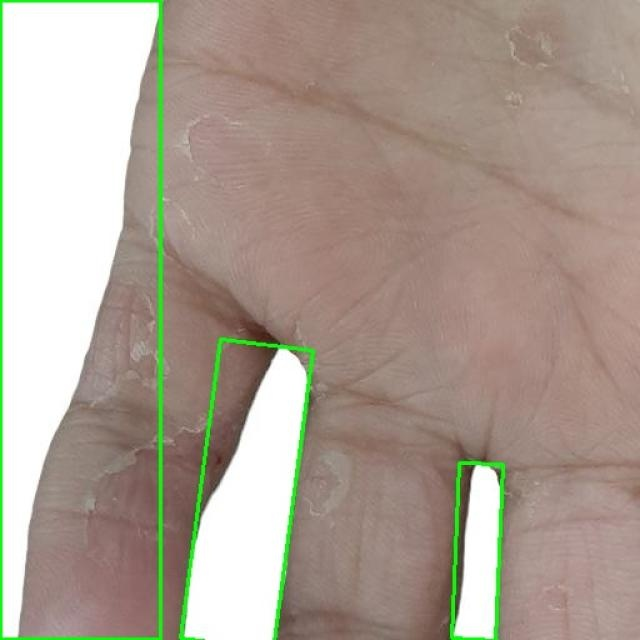Scabies: (0, 0, 160, 639), (181, 339, 314, 640), (452, 463, 503, 640)
